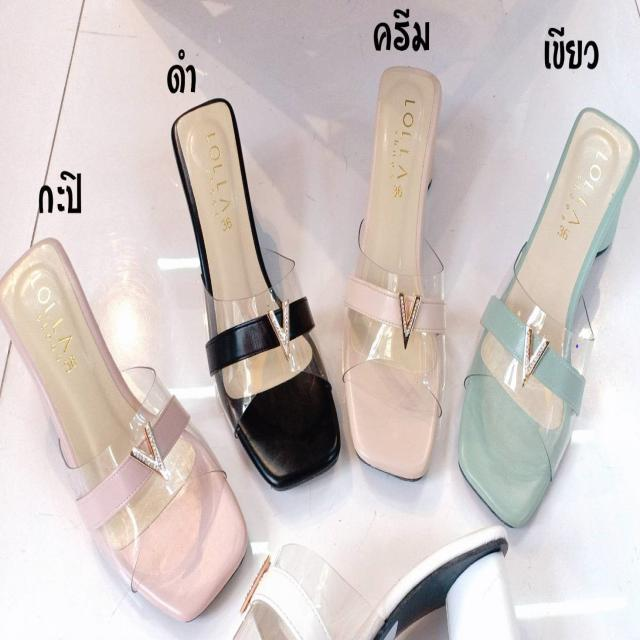black: (172, 97, 341, 479)
cream: (342, 68, 446, 484)
green: (454, 103, 636, 533)
kapi: (0, 232, 250, 612)
